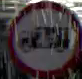Heavy Vehicles: (7, 1, 81, 72)
